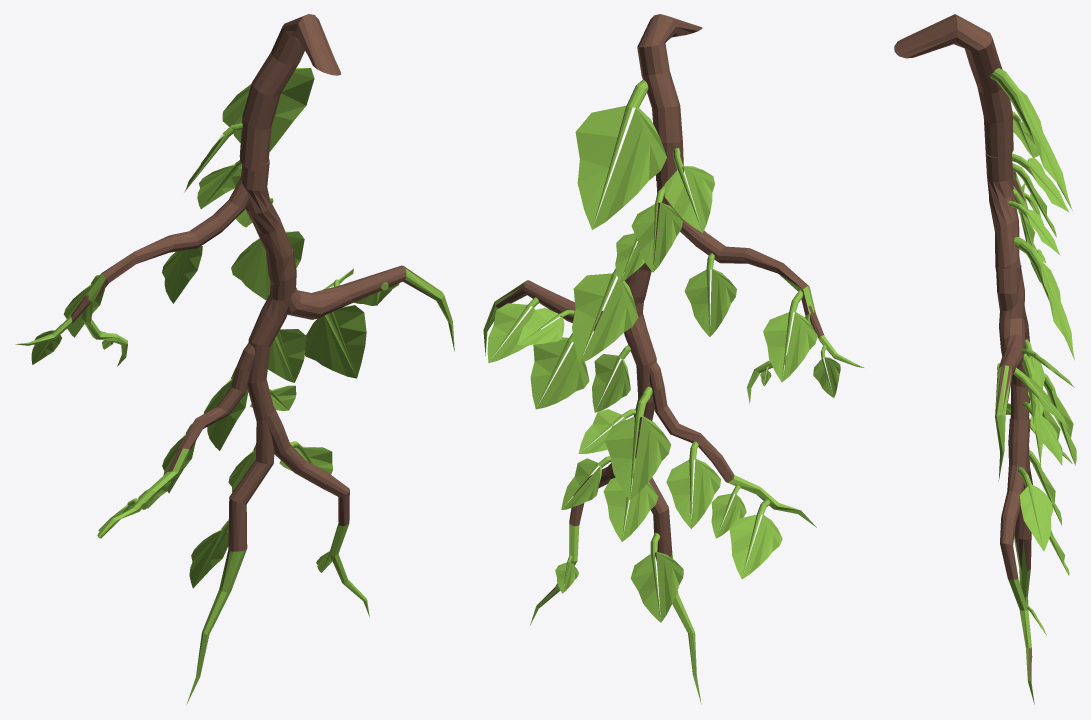
Rendered from Twine_2.glb.
3 views of the same model, side by side, from view 1: azimuth 30°, elevation 25°; view 2: azimuth 150°, elevation 25°; view 3: azimuth 270°, elevation 25° (orthographic). The views are drawn at different scales.
Visible parts, largest first — view 1: Node; view 2: Node; view 3: Node.
Boxes of the visible parts, x1,y1,x2,y2 form: Node: (15, 14, 454, 704); Node: (483, 14, 864, 704); Node: (894, 14, 1076, 704).
Size of the model in its own units: 1.27 by 1.99 by 0.483.
